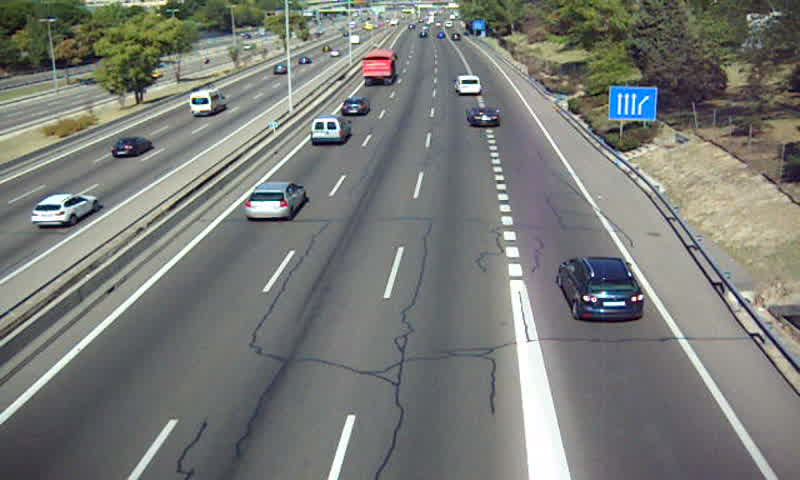car: (558, 256, 644, 318), (246, 181, 305, 220), (468, 107, 502, 128), (340, 98, 369, 116)
truck: (361, 49, 398, 82)
van: (308, 115, 351, 145), (454, 76, 483, 96)
